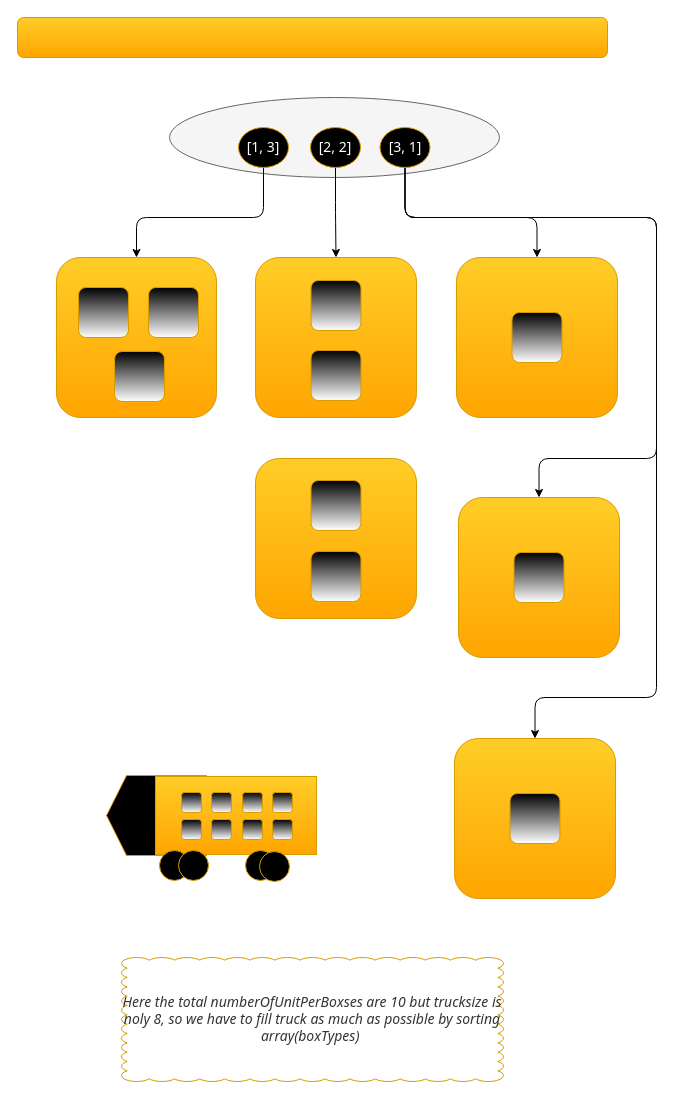
Image size: 682x1099. Some labels were removed from this diagram. Each missing label, with the box of its shape:
maximum-units-on-a-truck: (16, 16, 608, 58)
Test Case: (168, 96, 500, 178)
